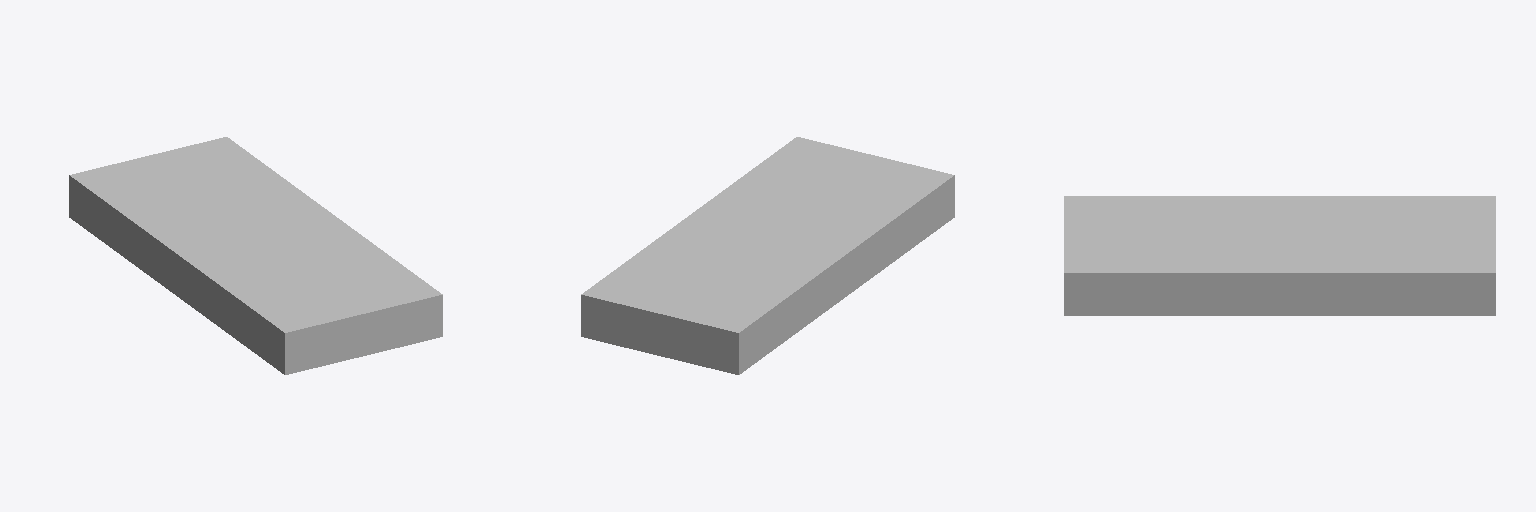
3 renders of one model, left to right at view 1: azimuth 30°, elevation 25°; view 2: azimuth 150°, elevation 25°; view 3: azimuth 270°, elevation 25°, orthographic.
Parts seen in each view (by area): view 1: Cube; view 2: Cube; view 3: Cube.
Boxes of the visible parts, x1=… form: Cube: x1=69, y1=137, x2=442, y2=374; Cube: x1=581, y1=137, x2=954, y2=374; Cube: x1=1064, y1=196, x2=1495, y2=315.
Bounding box in the file's own units: 5.32 × 1.36 × 12.61.